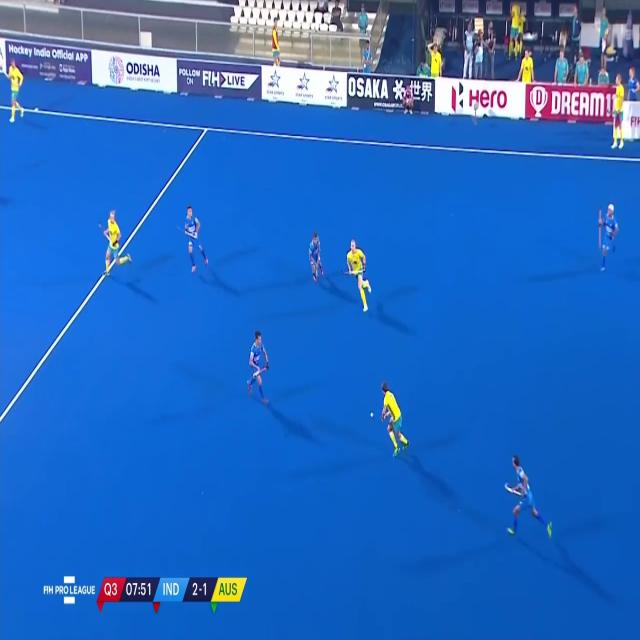ball: (368, 408, 376, 420)
